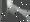person: (3, 1, 30, 22)
